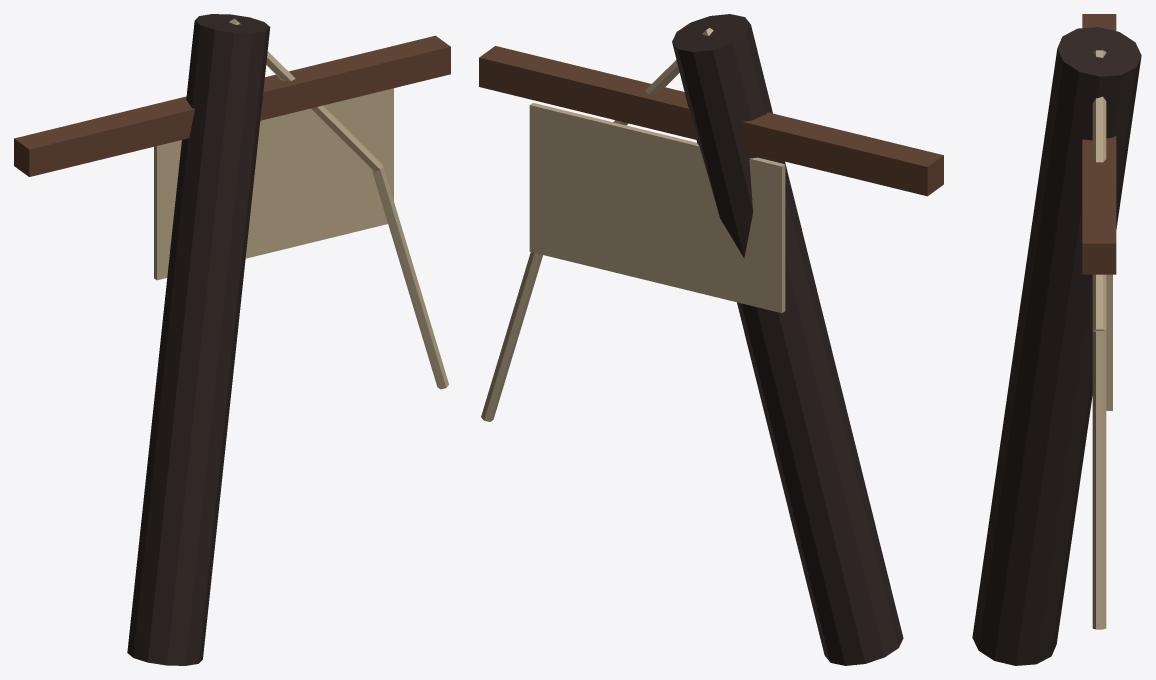
The model's file is PirateCove_WreckMast_Standard.glb.
The picture shows the model from 3 angles, left to right: view 1: azimuth 30°, elevation 25°; view 2: azimuth 150°, elevation 25°; view 3: azimuth 270°, elevation 25°; orthographic projection. The views are drawn at different scales.
Parts seen in each view (by area): view 1: PirateCove_WreckMast_Standard; view 2: PirateCove_WreckMast_Standard; view 3: PirateCove_WreckMast_Standard.
Boxes of the visible parts, x1=… form: PirateCove_WreckMast_Standard: x1=14, y1=14, x2=450, y2=665; PirateCove_WreckMast_Standard: x1=479, y1=14, x2=943, y2=665; PirateCove_WreckMast_Standard: x1=972, y1=14, x2=1141, y2=665.
Bounding box in the file's own units: 3.23 × 4.31 × 0.9965.
